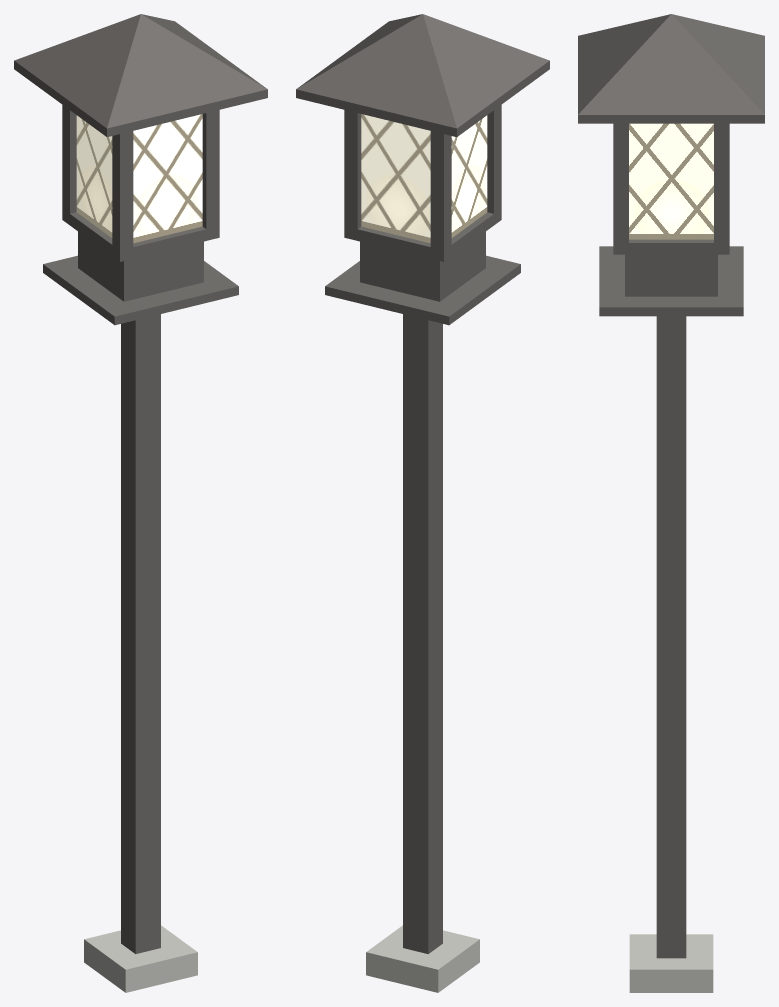
Rendered from lampu_taman.glb.
3 views of the same model, side by side, from view 1: azimuth 30°, elevation 25°; view 2: azimuth 150°, elevation 25°; view 3: azimuth 270°, elevation 25° (orthographic).
Parts seen in each view (by area): view 1: Tiang_Dan_Kap_Besi_Lampu, Kaca_Kisi_Lampion_Taman, Umpak_Beton_Lampu; view 2: Tiang_Dan_Kap_Besi_Lampu, Kaca_Kisi_Lampion_Taman, Umpak_Beton_Lampu; view 3: Tiang_Dan_Kap_Besi_Lampu, Kaca_Kisi_Lampion_Taman, Umpak_Beton_Lampu.
Part boxes in pixels (<box>): Tiang_Dan_Kap_Besi_Lampu: <box>14,14,267,954</box>; Kaca_Kisi_Lampion_Taman: <box>76,114,202,243</box>; Umpak_Beton_Lampu: <box>84,925,197,992</box>; Tiang_Dan_Kap_Besi_Lampu: <box>296,14,549,954</box>; Kaca_Kisi_Lampion_Taman: <box>361,114,487,243</box>; Umpak_Beton_Lampu: <box>366,925,479,992</box>; Tiang_Dan_Kap_Besi_Lampu: <box>578,14,764,958</box>; Kaca_Kisi_Lampion_Taman: <box>629,123,713,239</box>; Umpak_Beton_Lampu: <box>629,934,713,992</box>.
Size of the model in its own units: 0.29 by 1.64 by 0.29.
3 materials, 1 textured.
